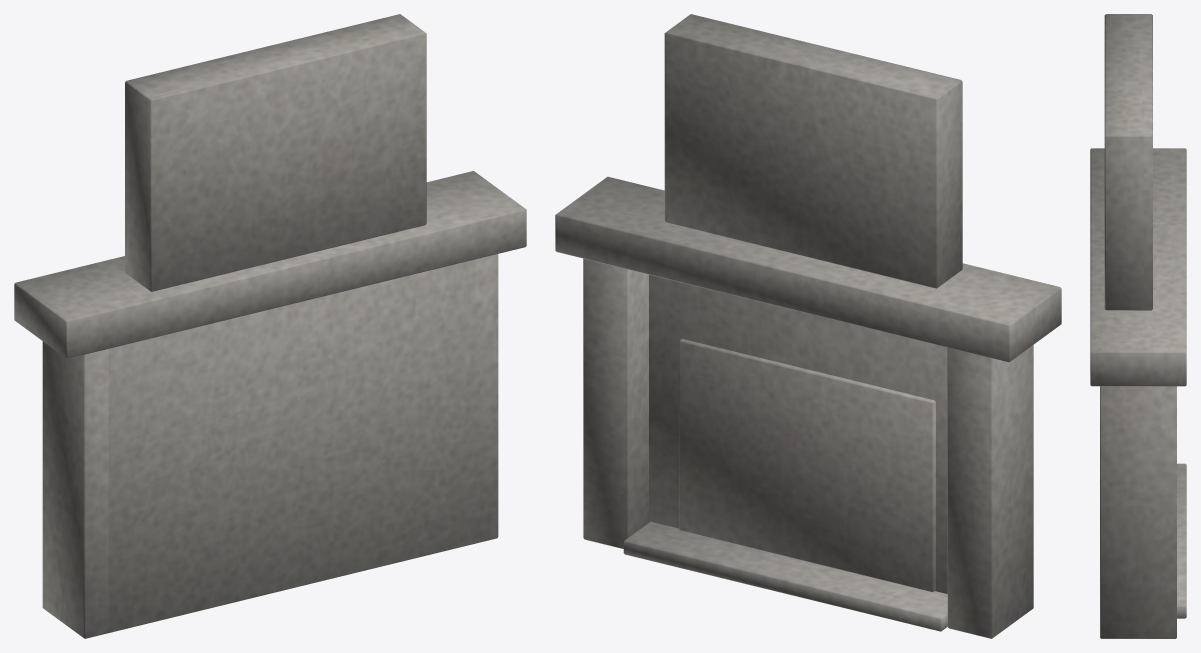
The model's file is stone-hearth.glb.
The picture shows the model from 3 angles, left to right: view 1: azimuth 30°, elevation 25°; view 2: azimuth 150°, elevation 25°; view 3: azimuth 270°, elevation 25°; orthographic projection. The views are drawn at different scales.
Parts seen in each view (by area): view 1: stone_hearth; view 2: stone_hearth; view 3: stone_hearth.
Boxes of the visible parts, x1=… form: stone_hearth: x1=14, y1=14, x2=526, y2=638; stone_hearth: x1=555, y1=14, x2=1061, y2=638; stone_hearth: x1=1090, y1=14, x2=1186, y2=638.
Bounding box in the file's own units: 5 × 5.4 × 1.
Materials: 1 (1 with a texture image).
